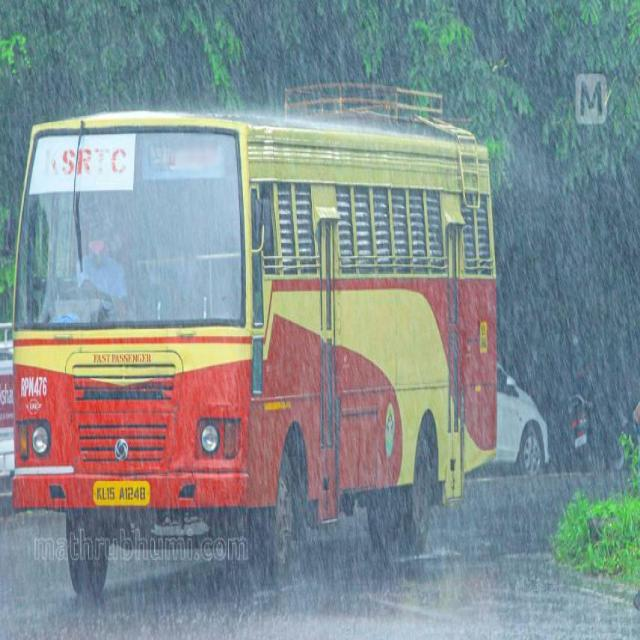bus: (12, 100, 500, 575)
